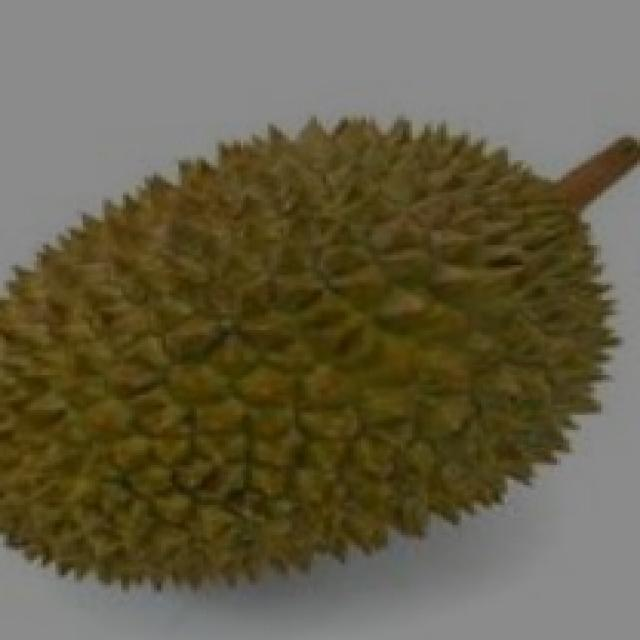fruit: (258, 192, 640, 598), (0, 250, 378, 637)
